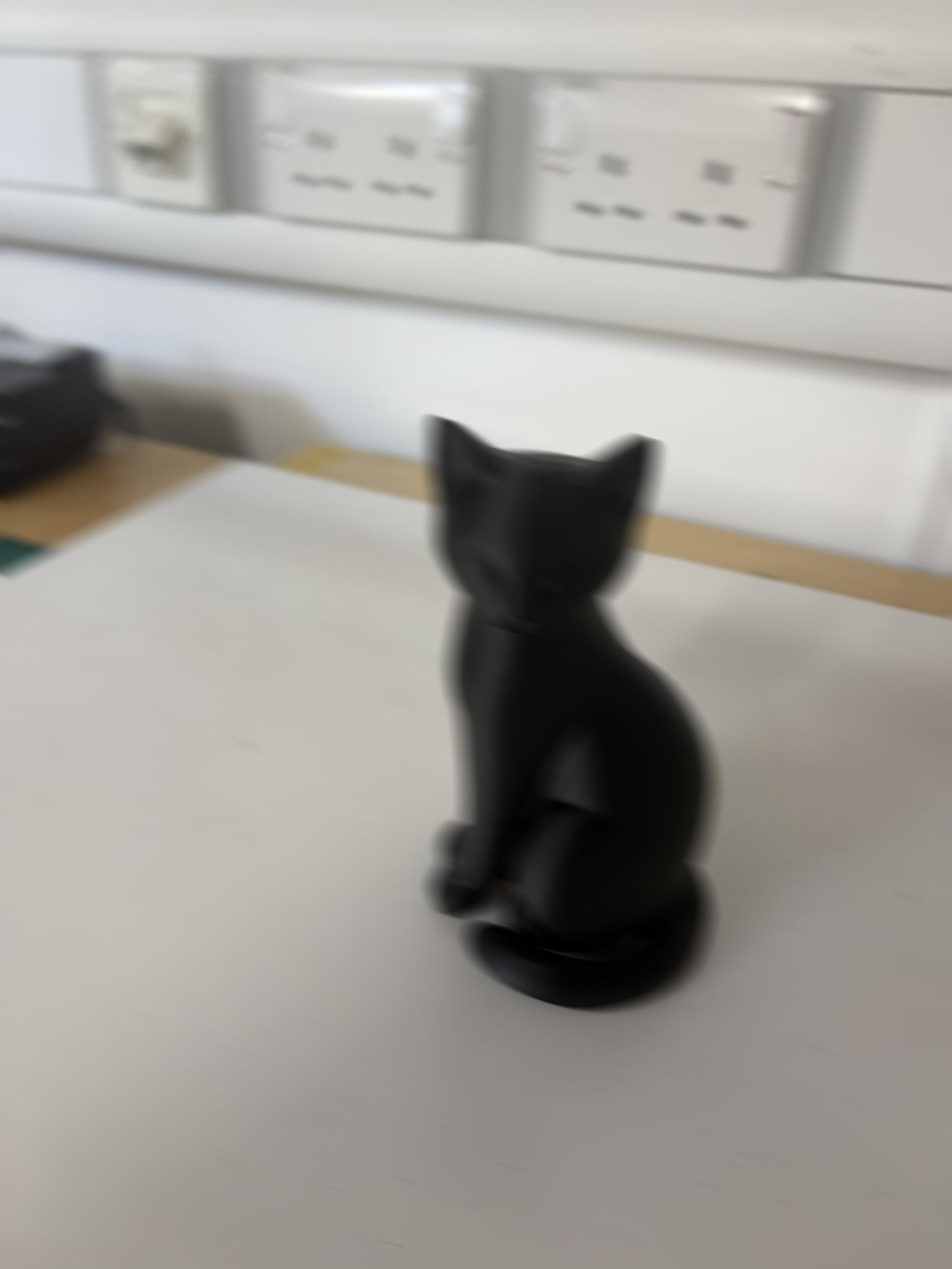cat: (430, 418, 712, 1008)
